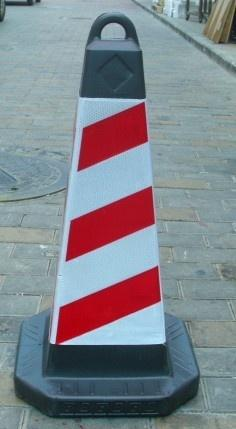cone_barrel: (30, 14, 188, 416)
